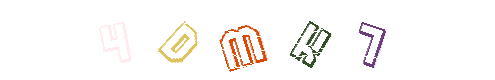4: (154, 0, 234, 80)
7: (324, 0, 404, 80)
D: (204, 0, 284, 80)
K: (272, 0, 352, 80)
M: (206, 0, 286, 80)
